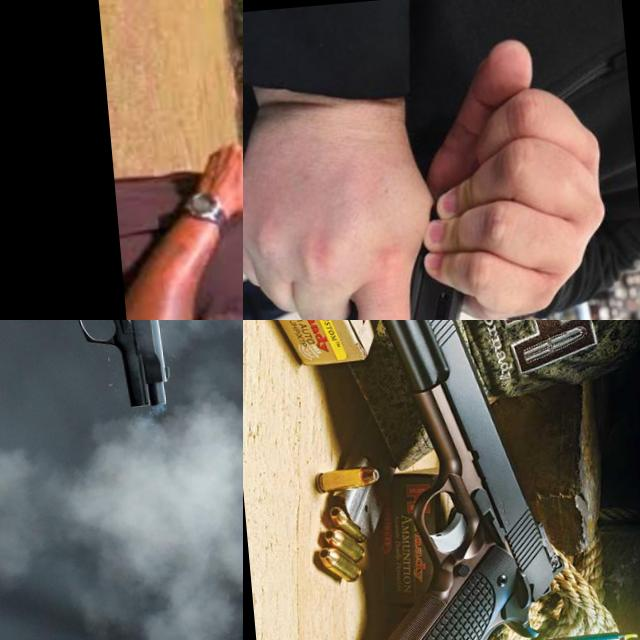handgun: (310, 320, 580, 640), (64, 320, 174, 432), (320, 273, 504, 320)
